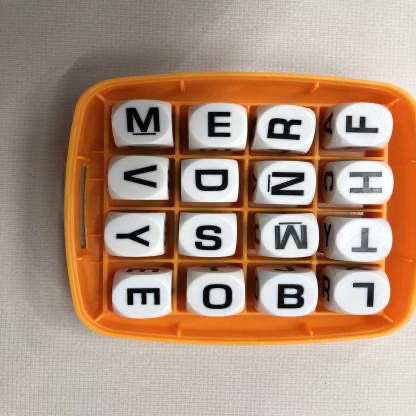b: (260, 272, 319, 318)
d: (181, 161, 239, 203)
e: (189, 103, 248, 147), (111, 275, 170, 319)
f: (336, 103, 393, 147)
h: (335, 162, 394, 203)
l: (334, 271, 391, 316)
m: (112, 100, 172, 143), (260, 215, 319, 258)
n: (256, 162, 314, 205)
o: (187, 273, 245, 318)
r: (258, 105, 316, 148)
s: (179, 213, 239, 257)
t: (333, 218, 392, 261)
v: (108, 157, 169, 202)
y: (105, 212, 165, 257)
